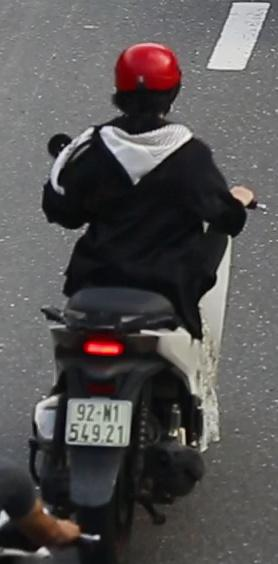LP: (60, 395, 134, 450)
helmet: (105, 38, 185, 132)
